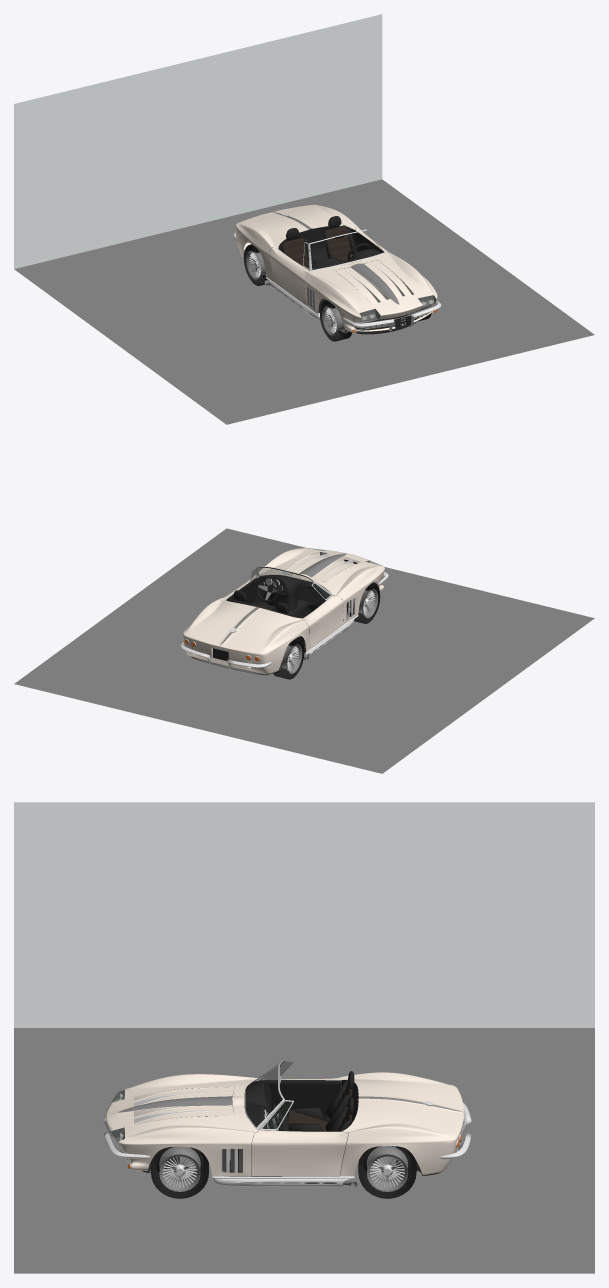
File: C2 ivory 1.glb
The picture shows the model from 3 angles, top to bottom: view 1: azimuth 30°, elevation 25°; view 2: azimuth 150°, elevation 25°; view 3: azimuth 270°, elevation 25°; orthographic projection. The views are drawn at different scales.
Visible parts, largest first — view 1: Plane, body, door, floor, lehne.001; view 2: Plane, body, door, board, floor, screen; view 3: Plane, body, door, Pneu Vtx (×2), RIM (×2), sidepipe, side, board, floor.
Part boxes in pixels (x1,y1,x2,y2): Plane: (14,14,594,424); body: (235,204,437,334); door: (269,226,389,303); floor: (278,226,394,312); lehne.001: (325,225,351,261); Plane: (14,528,594,773); body: (182,548,384,675); door: (219,568,343,648); board: (254,575,331,610); floor: (253,589,343,652); screen: (256,566,332,594); Plane: (14,802,594,1273); body: (105,1072,463,1176); door: (251,1061,348,1175); Pneu Vtx (×2): (151,1146,416,1198); RIM (×2): (159,1146,408,1191); sidepipe: (212,1115,354,1186); side: (288,1081,352,1131); board: (245,1080,277,1130); floor: (229,1080,358,1176).
Bounding box in the file's own units: 7 × 3 × 7.
